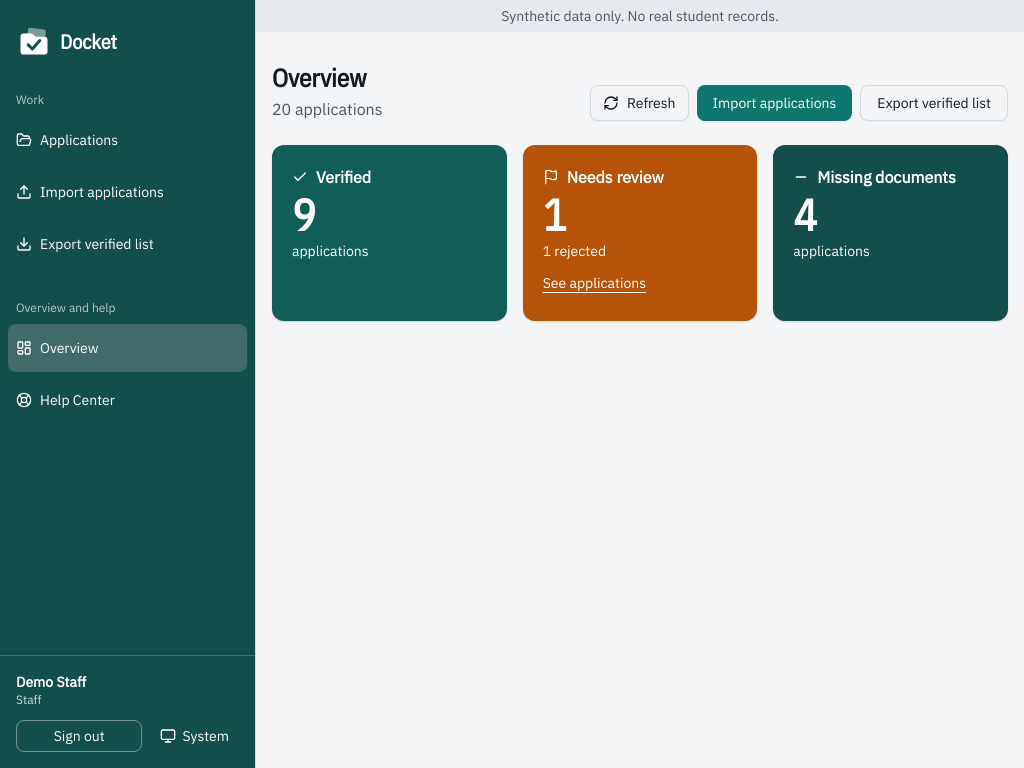
Test: the dashboard › reads the counts again when the person presses refresh, and announces it politely
Expected: the text "20 applications" is shown, [272, 97, 382, 121]
Click the button "Refresh" at (639, 103), box [590, 85, 688, 121]
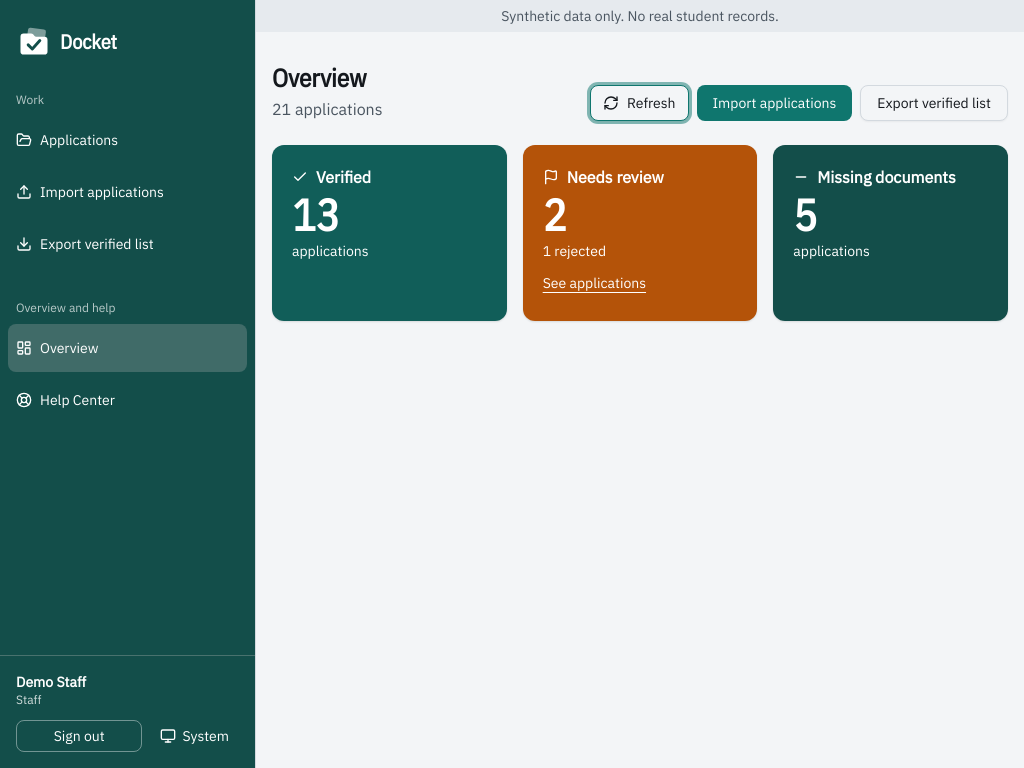
Expected: the text "21 applications" is shown, [272, 97, 382, 121]
